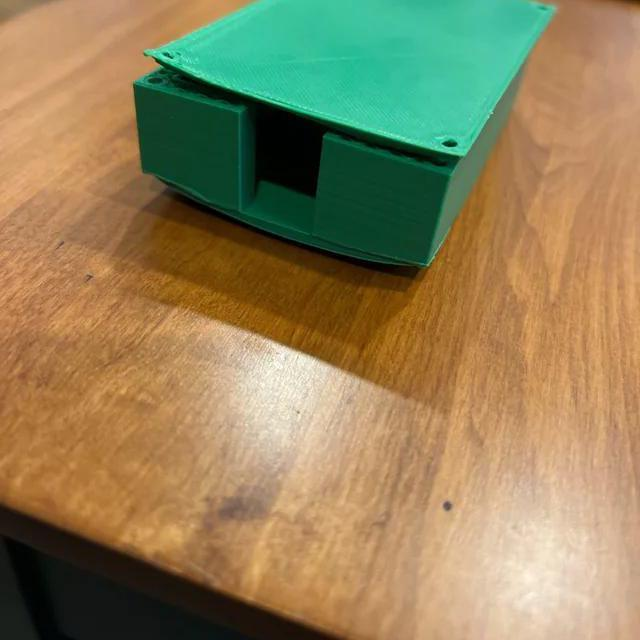warping: (144, 44, 205, 84), (135, 161, 189, 193), (386, 250, 433, 280)
